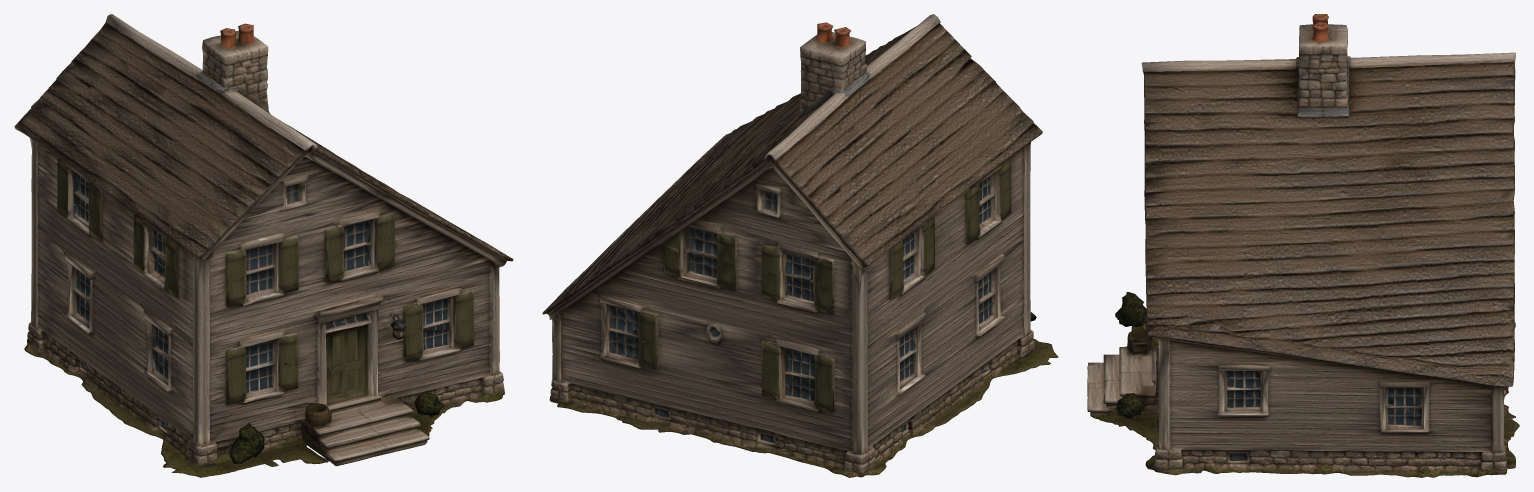
File: tripo_convert_14d84afc-a6c6-4f36-b3cd-44eb21ea06b9.fbx
The picture shows the model from 3 angles, left to right: view 1: azimuth 30°, elevation 25°; view 2: azimuth 150°, elevation 25°; view 3: azimuth 270°, elevation 25°; orthographic projection. The views are drawn at different scales.
Visible parts, largest first — view 1: tripo_part_1, tripo_part_3, tripo_part_0, tripo_part_4, tripo_part_5, tripo_part_13, tripo_part_6, tripo_part_12, tripo_part_19, tripo_part_2, tripo_part_21, tripo_part_15 (+6 smaller); view 2: tripo_part_1, tripo_part_3, tripo_part_0, tripo_part_7, tripo_part_6, tripo_part_14, tripo_part_9, tripo_part_16, tripo_part_2, tripo_part_21, tripo_part_8, tripo_part_26 (+4 smaller); view 3: tripo_part_3, tripo_part_1, tripo_part_0, tripo_part_6, tripo_part_5, tripo_part_18, tripo_part_17, tripo_part_11, tripo_part_15, tripo_part_20.
Part boxes in pixels (x1,y1,x2,y2): tripo_part_1: (30, 138, 507, 446); tripo_part_3: (14, 14, 513, 261); tripo_part_0: (24, 322, 504, 464); tripo_part_4: (225, 214, 394, 307); tripo_part_5: (300, 395, 429, 466); tripo_part_13: (210, 333, 298, 405); tripo_part_6: (197, 23, 268, 111); tripo_part_12: (378, 290, 474, 361); tripo_part_19: (325, 322, 371, 405); tripo_part_2: (160, 437, 328, 477); tripo_part_21: (70, 266, 90, 326); tripo_part_15: (229, 423, 264, 463); tripo_part_1: (549, 142, 1031, 454); tripo_part_3: (542, 14, 1042, 314); tripo_part_0: (549, 330, 1034, 477); tripo_part_7: (761, 340, 852, 413); tripo_part_6: (799, 22, 869, 116); tripo_part_14: (761, 244, 834, 314); tripo_part_9: (681, 226, 737, 290); tripo_part_16: (605, 304, 658, 370); tripo_part_2: (990, 338, 1058, 379); tripo_part_21: (899, 327, 918, 389); tripo_part_8: (979, 172, 996, 228); tripo_part_26: (664, 230, 683, 278); tripo_part_3: (1141, 52, 1515, 387); tripo_part_1: (1141, 314, 1507, 454); tripo_part_0: (1145, 322, 1519, 477); tripo_part_6: (1295, 14, 1350, 116); tripo_part_5: (1087, 329, 1158, 416); tripo_part_18: (1385, 387, 1423, 428); tripo_part_17: (1224, 370, 1263, 410); tripo_part_11: (1092, 411, 1158, 444); tripo_part_15: (1115, 292, 1146, 326); tripo_part_20: (1115, 393, 1145, 418).
Size of the model in its own units: 0.8941 by 0.8736 by 0.9525.
1 material, 1 textured.
